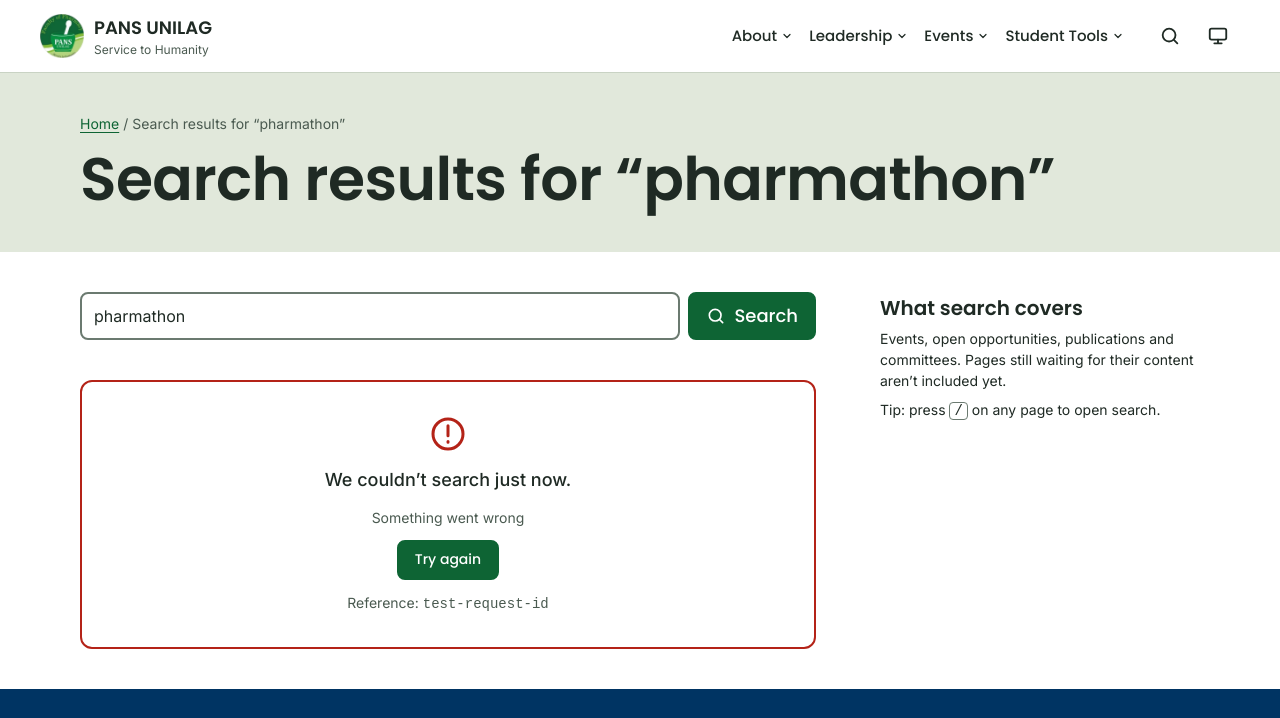
Scenario: results page › shows an error with a retry
Expected: the text "We couldn’t search just now." is shown, top-left (325, 466), bottom-right (571, 495)
Click the button "Try again" at (448, 560), box top-left (397, 540), bottom-right (499, 580)
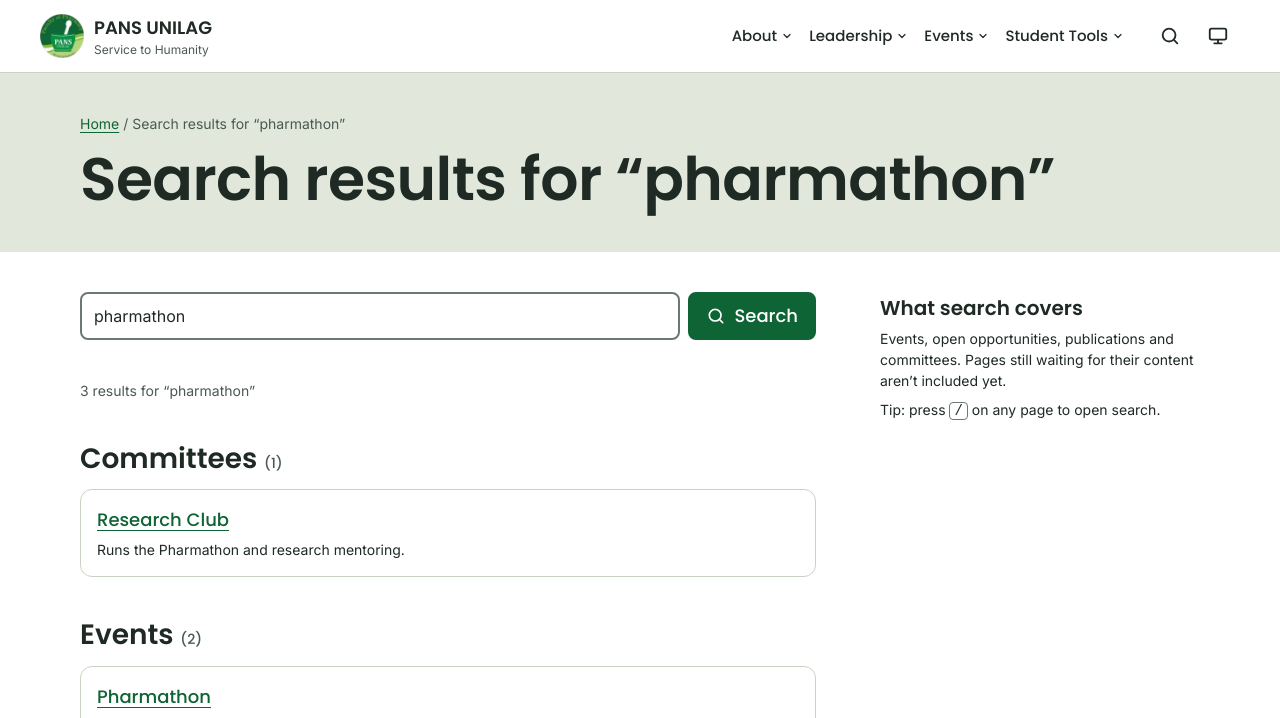
Now the heading "Committees (1)" is shown, box top-left (80, 439), bottom-right (283, 478)
